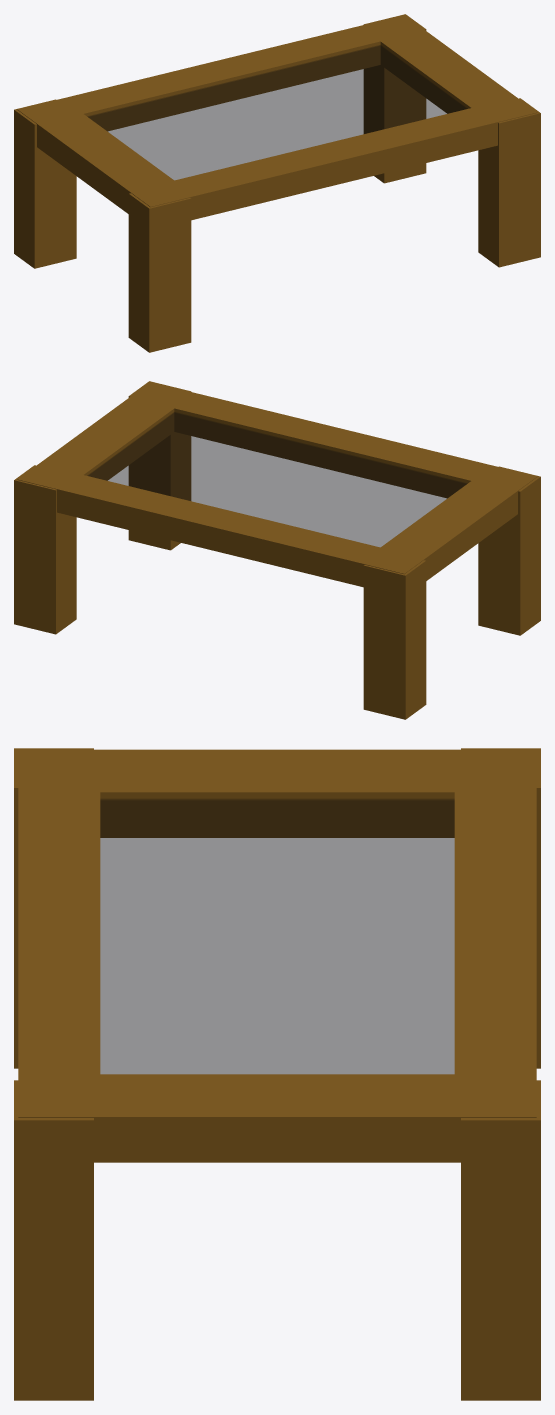
The picture shows the model from 3 angles, top to bottom: view 1: azimuth 30°, elevation 25°; view 2: azimuth 150°, elevation 25°; view 3: azimuth 270°, elevation 25°; orthographic projection. The views are drawn at different scales.
Visible parts, largest first — view 1: Cube_2, Cube.001_3, Cube.005_4; view 2: Cube_2, Cube.001_3, Cube.005_4; view 3: Cube_2, Cube.005_4, Cube.001_3.
Part boxes in pixels (x1,y1,x2,y2): Cube_2: (17, 15, 537, 220); Cube.001_3: (14, 14, 540, 352); Cube.005_4: (88, 45, 466, 179); Cube_2: (17, 382, 537, 587); Cube.001_3: (14, 381, 540, 719); Cube.005_4: (88, 412, 466, 546); Cube_2: (18, 749, 536, 1162); Cube.005_4: (100, 799, 454, 1073); Cube.001_3: (14, 748, 540, 1400).
Size of the model in its own units: 1.14 by 0.4031 by 0.6842.
